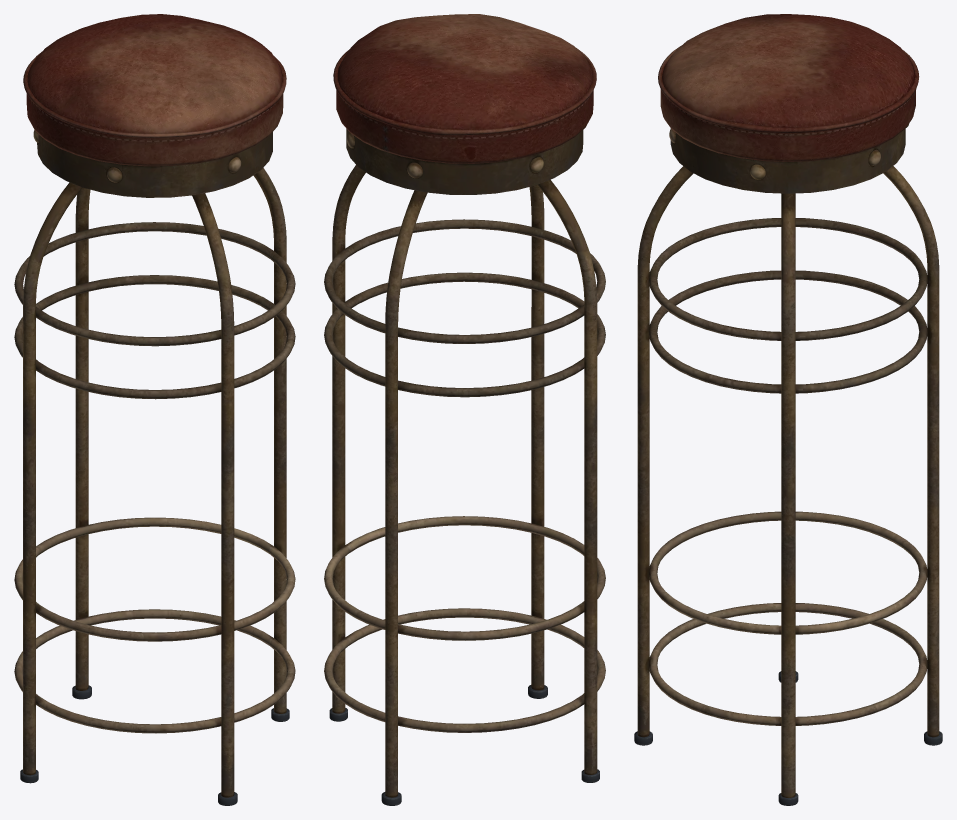
File: metal_stool_01.glb
3 renders of one model, left to right at view 1: azimuth 30°, elevation 25°; view 2: azimuth 150°, elevation 25°; view 3: azimuth 270°, elevation 25°, orthographic.
Parts seen in each view (by area): view 1: metal_stool_01; view 2: metal_stool_01; view 3: metal_stool_01.
Boxes of the visible parts, x1,y1,x2,y2 form: metal_stool_01: (14,14,295,805); metal_stool_01: (324,14,605,805); metal_stool_01: (634,14,942,805).
Size of the model in its own units: 0.352 by 0.8828 by 0.3546.
Materials: 1 (1 with a texture image).
